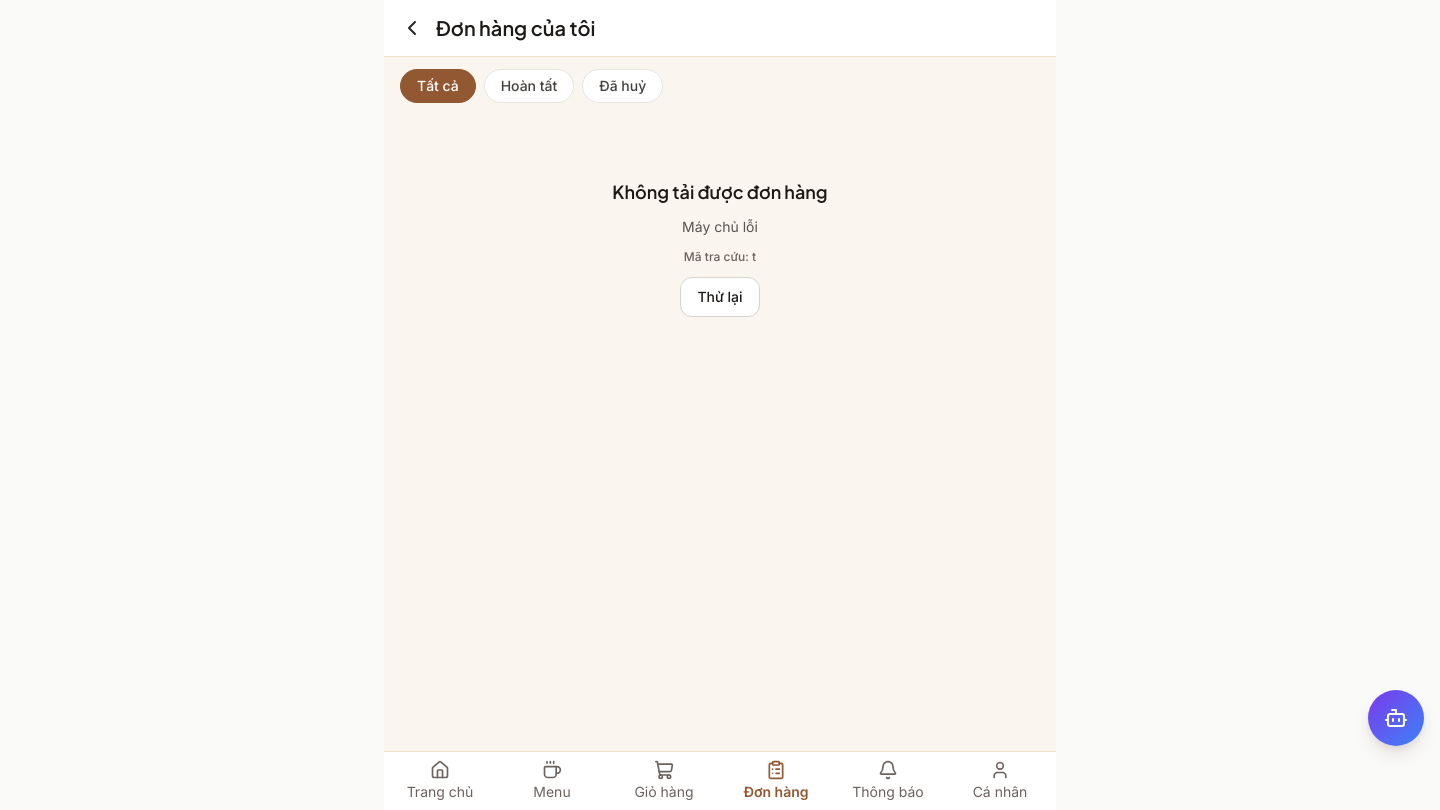
Test: /orders — loading / error / empty / quyền › lỗi tải → báo lỗi và Thử lại tải được dữ liệu
This screenshot has width=1440, height=810.
Expected: the message shows "Không tải được đơn hàng", x1=612 y1=180 x2=828 y2=203
Step 1. Click the button "Thử lại" → (720, 297), box x1=680 y1=277 x2=760 y2=317
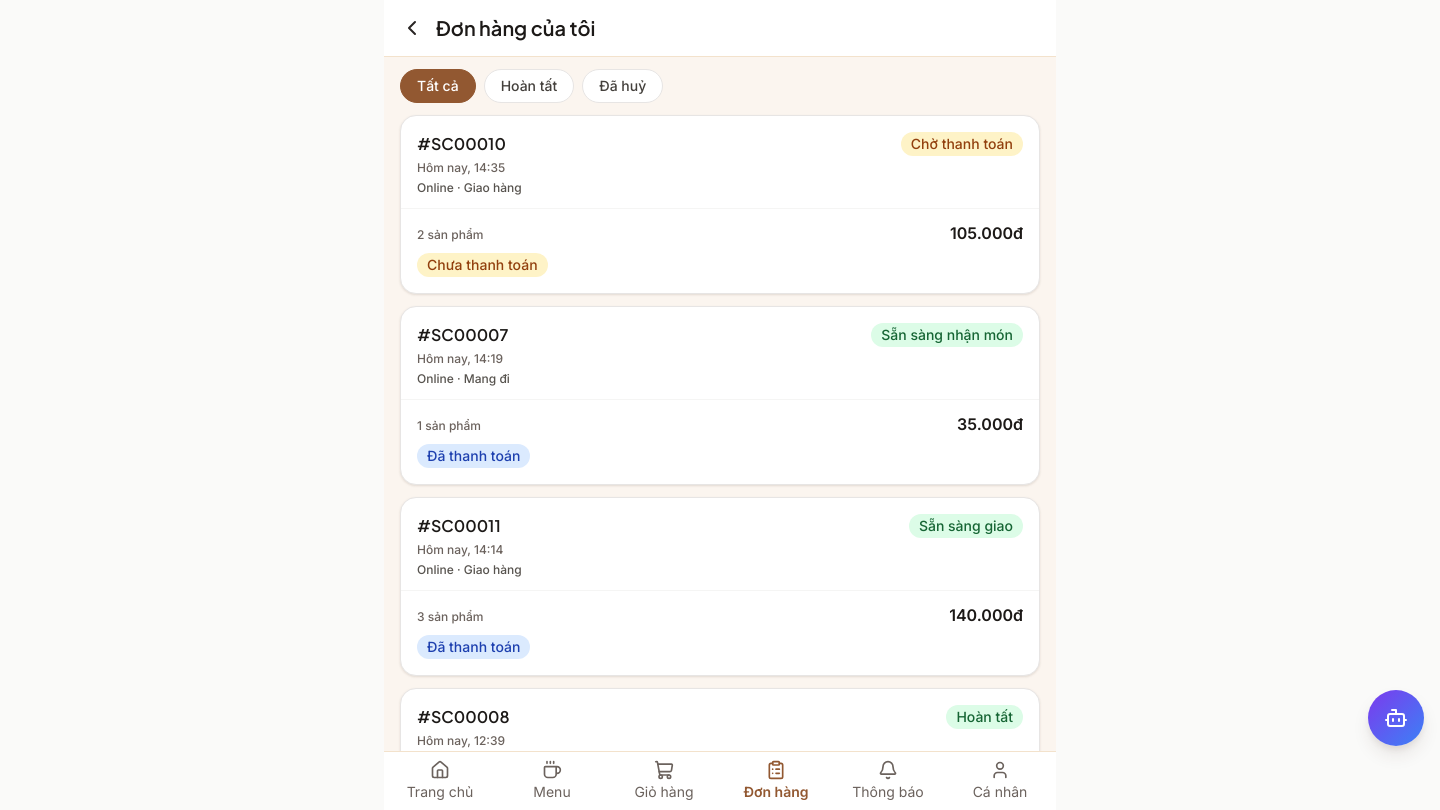
Expected: the message "Không tải được đơn hàng Máy chủ lỗi Mã tra cứu: t Thử lại" is gone
